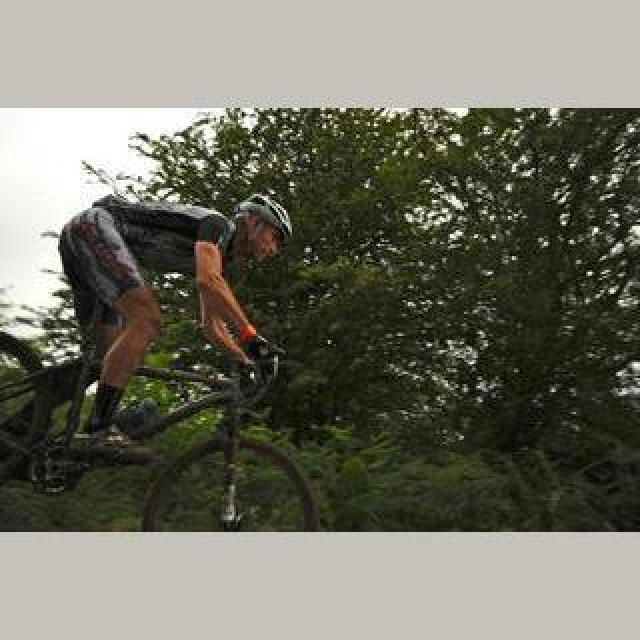MC-Bike: (60, 188, 296, 440)
Person: (0, 343, 320, 525)
